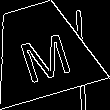M_N: (10, 20, 72, 81)
